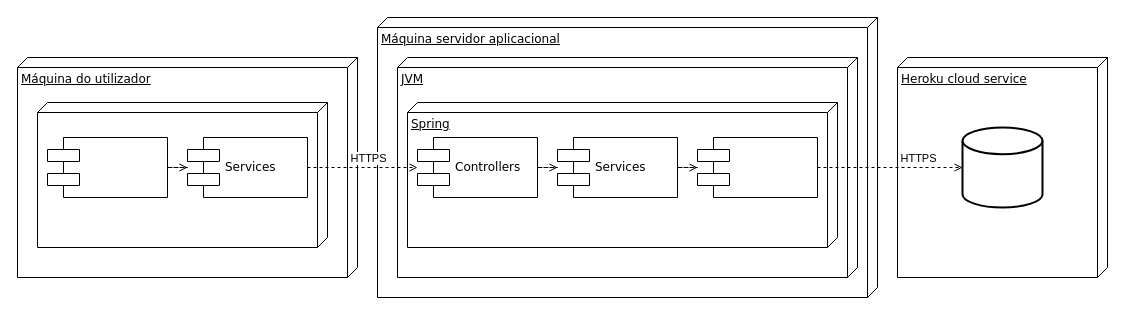
The diagram is 1125 pixels wide and 315 high, and some of its shapes have lost their labels. Each missing label, with the box of its shape:
Browser: (36, 102, 328, 248)
PostgreSQL: (961, 126, 1043, 208)
Repositories: (696, 136, 818, 198)
Views: (46, 136, 168, 198)
